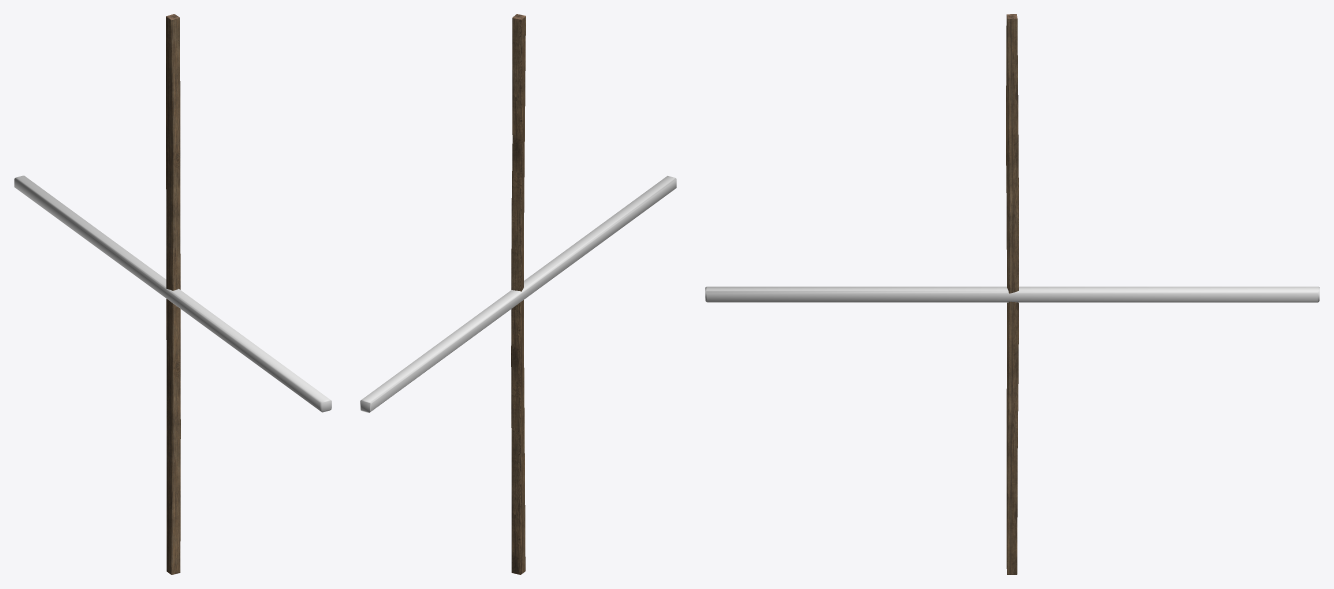
File: SM_Small_Beam_C.fbx
The picture shows the model from 3 angles, left to right: view 1: azimuth 30°, elevation 25°; view 2: azimuth 150°, elevation 25°; view 3: azimuth 270°, elevation 25°; orthographic projection.
Parts seen in each view (by area): view 1: SM_Small_Beam_C, SM_Small_Beam_C_ConvexHulls; view 2: SM_Small_Beam_C, SM_Small_Beam_C_ConvexHulls; view 3: SM_Small_Beam_C_ConvexHulls, SM_Small_Beam_C.
Boxes of the visible parts, x1,y1,x2,y2 form: SM_Small_Beam_C: [166, 14, 180, 574]; SM_Small_Beam_C_ConvexHulls: [14, 175, 331, 412]; SM_Small_Beam_C: [511, 14, 525, 574]; SM_Small_Beam_C_ConvexHulls: [360, 176, 676, 412]; SM_Small_Beam_C_ConvexHulls: [705, 286, 1319, 302]; SM_Small_Beam_C: [1006, 14, 1018, 574].
Size of the model in its own units: 0.1186 by 5.4 by 5.4.
